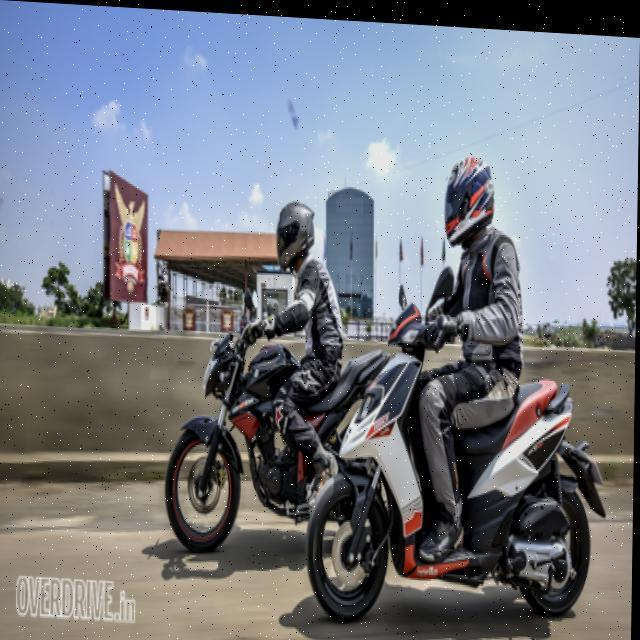Helmet: (441, 146, 496, 242), (276, 193, 316, 260)
